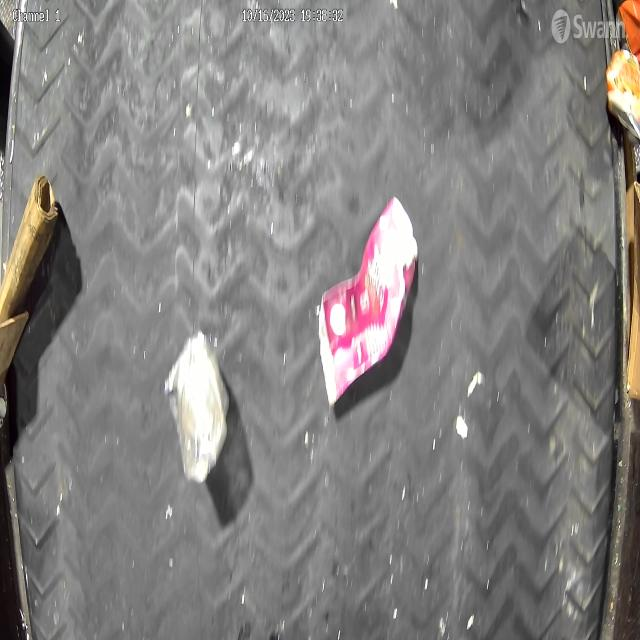non_white_jug: (318, 196, 419, 409)
